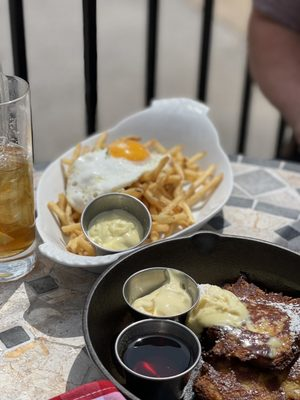sushi: (32, 100, 235, 285), (113, 319, 202, 400), (81, 193, 153, 256), (122, 267, 200, 325)
